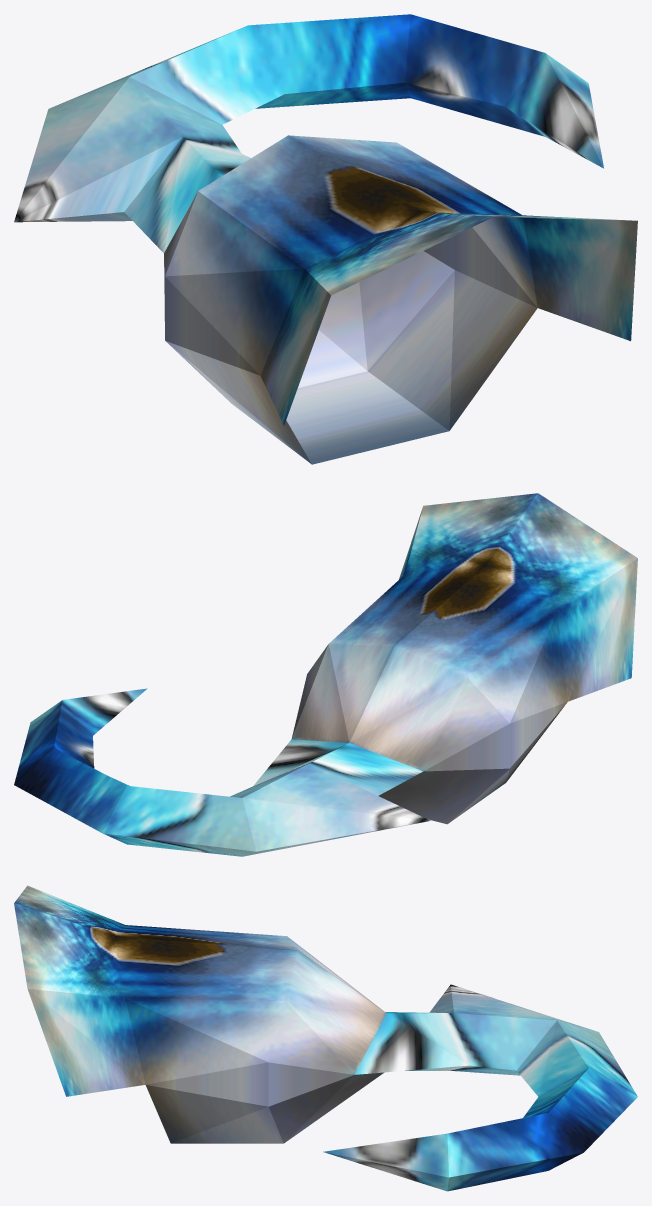
Rendered from twinblade103_2.obj.
3 renders of one model, top to bottom at view 1: azimuth 30°, elevation 25°; view 2: azimuth 150°, elevation 25°; view 3: azimuth 270°, elevation 25°, orthographic. The views are drawn at different scales.
Visible parts, largest first — view 1: MDL_cwdhkn03_2r; view 2: MDL_cwdhkn03_2r; view 3: MDL_cwdhkn03_2r.
Part boxes in pixels (x1=…): MDL_cwdhkn03_2r: x1=14, y1=14, x2=637, y2=464; MDL_cwdhkn03_2r: x1=14, y1=493, x2=637, y2=856; MDL_cwdhkn03_2r: x1=14, y1=885, x2=637, y2=1191.
Bounding box in the file's own units: 0.3438 × 0.1774 × 0.4625.
